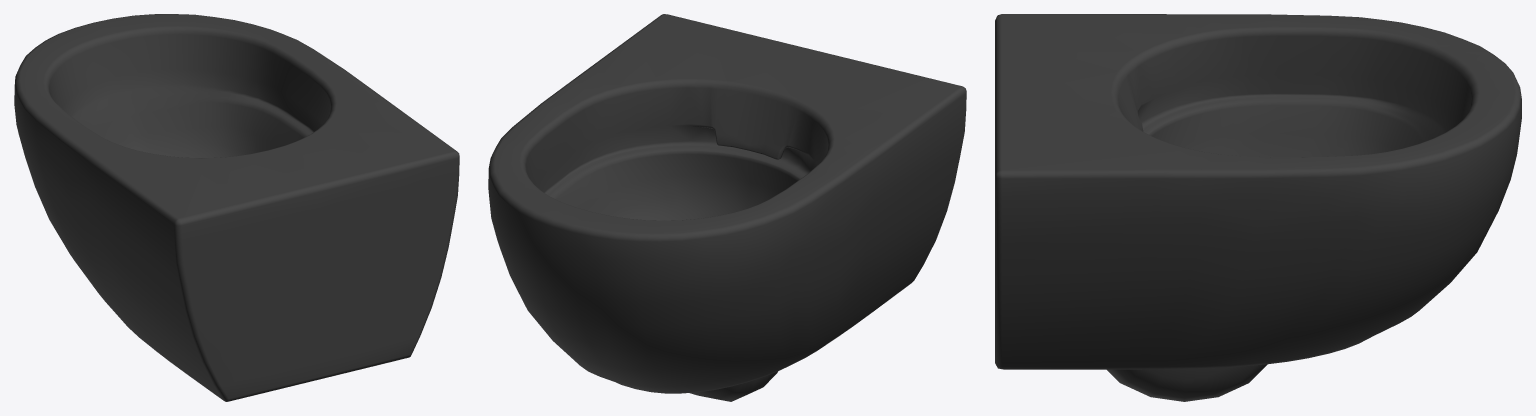
The model's file is ULMOU0101001.glb.
The picture shows the model from 3 angles, left to right: view 1: azimuth 30°, elevation 25°; view 2: azimuth 150°, elevation 25°; view 3: azimuth 270°, elevation 25°; orthographic projection. The views are drawn at different scales.
Parts seen in each view (by area): view 1: Body__0; view 2: Body__0; view 3: Body__0.
Boxes of the visible parts, x1,y1,x2,y2 form: Body__0: (14, 14, 459, 401); Body__0: (488, 14, 966, 401); Body__0: (995, 14, 1521, 401).
Size of the model in its own units: 0.355 by 0.309 by 0.49.
1 material, 1 textured.
